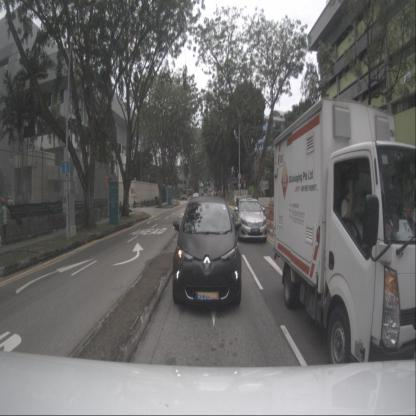human-pedestrian-adult: (133, 191, 137, 208)
movable_object-barrier: (257, 196, 275, 214)
vehicle-car: (171, 194, 241, 313), (233, 194, 268, 244)
vehicle-truck: (274, 97, 416, 360), (181, 189, 187, 200)
